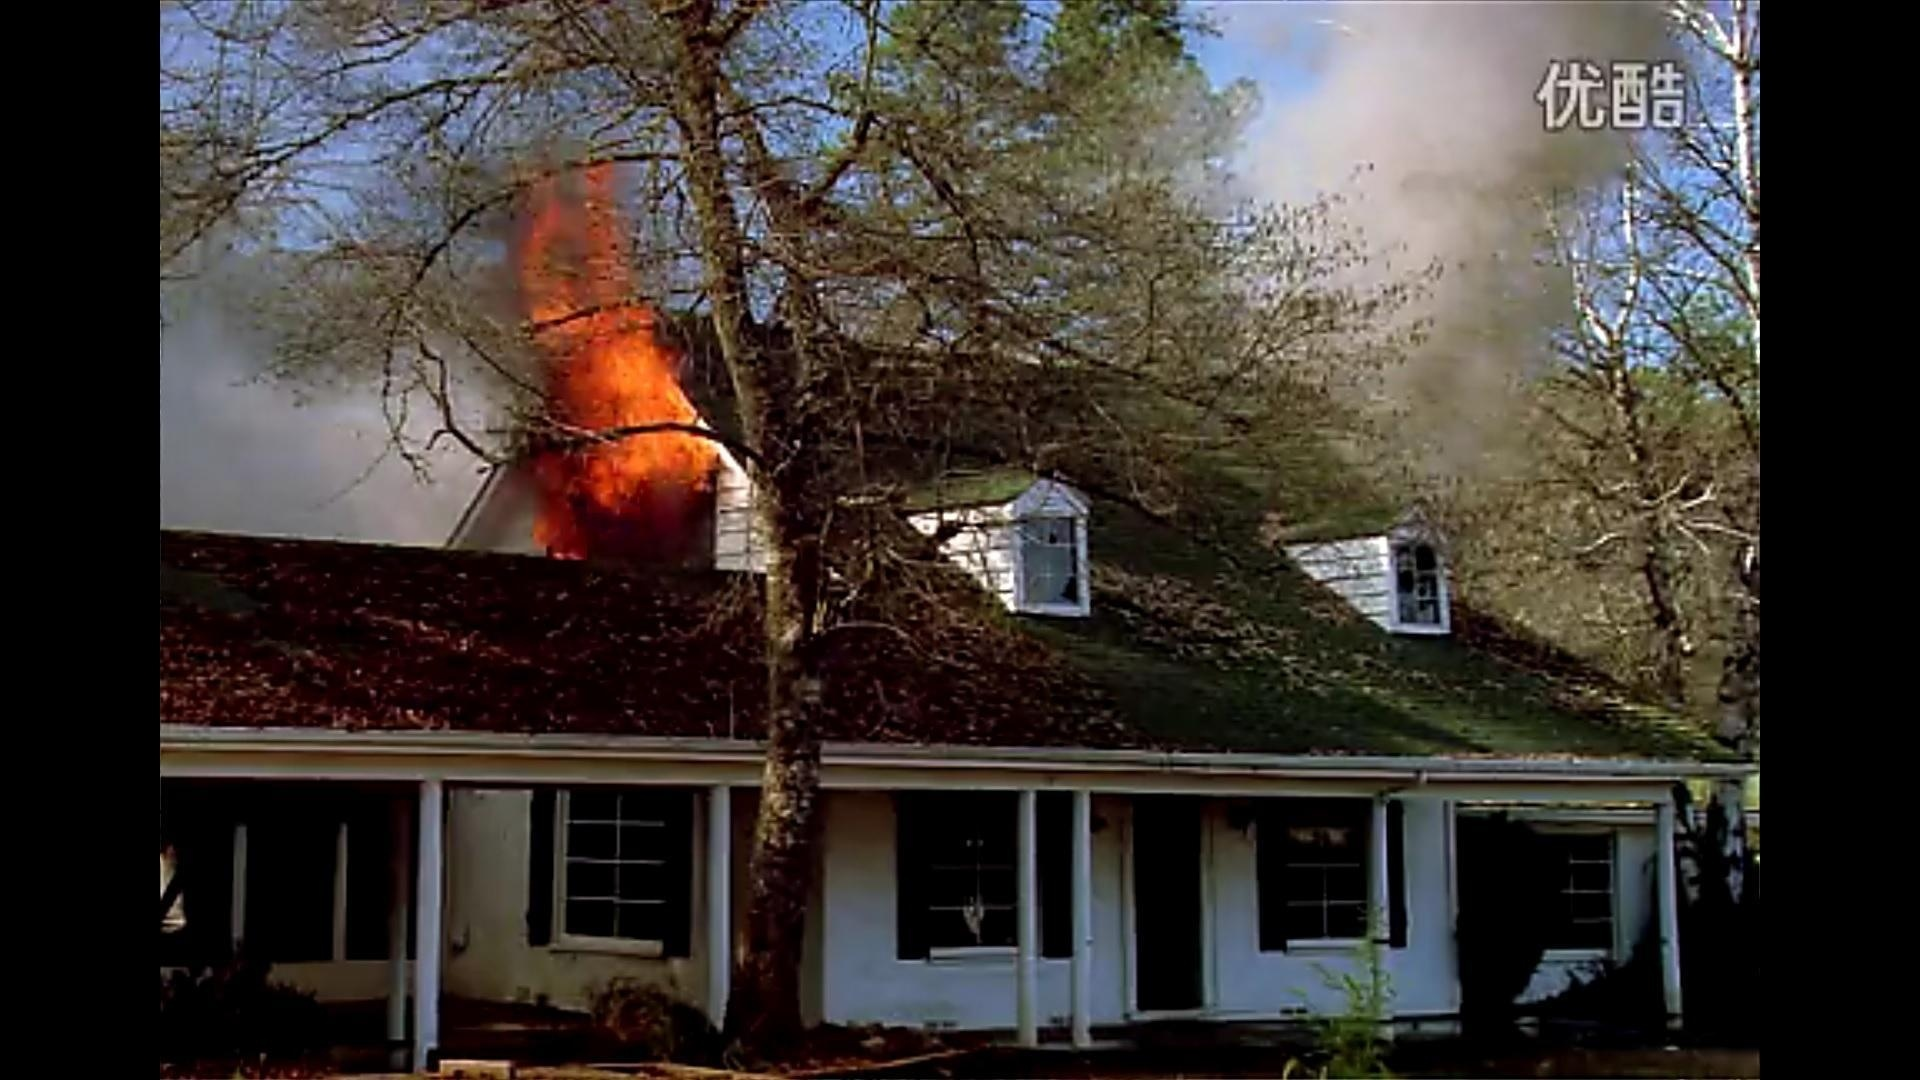fire: (520, 175, 719, 543)
